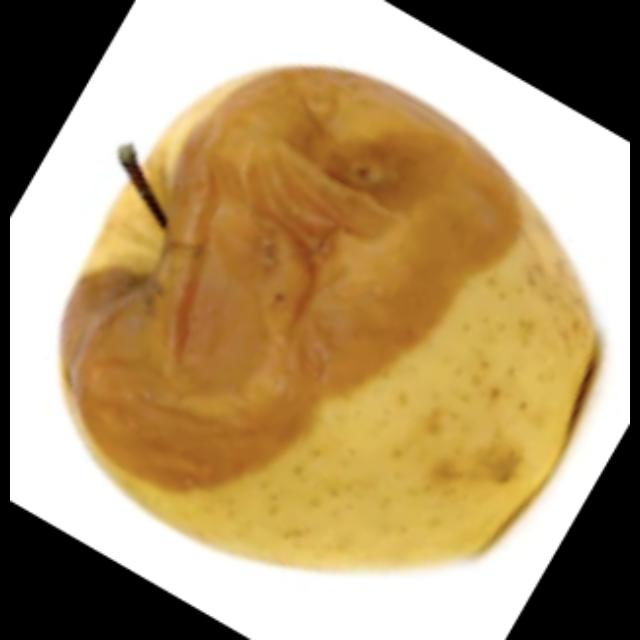Apel Tidak Segar: (46, 67, 585, 581)
